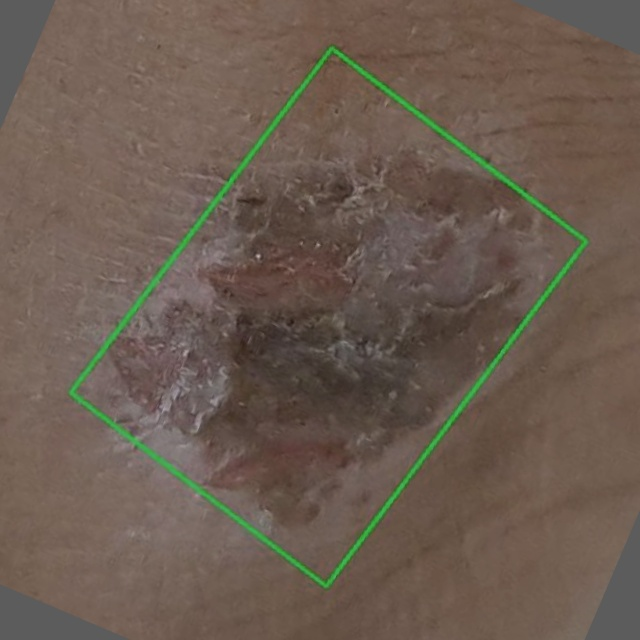Contact Dermatitis: (71, 49, 587, 586)
